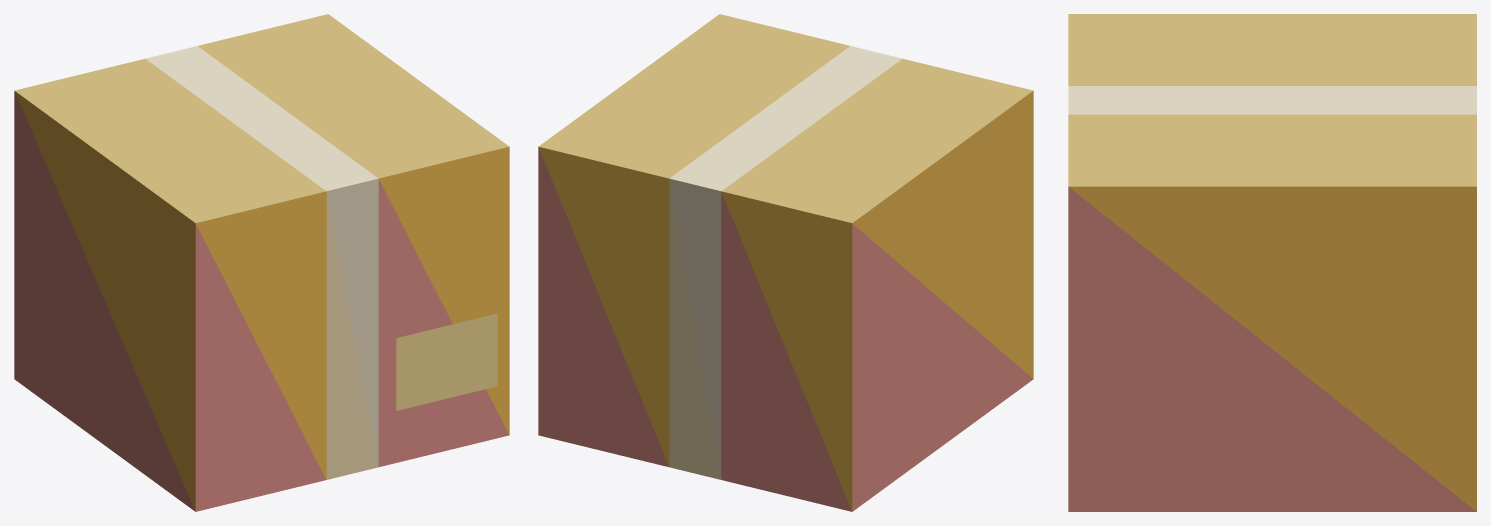
Rendered from itch_kaykit_city_bits_box_a.glb.
3 views of the same model, side by side, from view 1: azimuth 30°, elevation 25°; view 2: azimuth 150°, elevation 25°; view 3: azimuth 270°, elevation 25° (orthographic). The views are drawn at different scales.
Parts seen in each view (by area): view 1: box_A; view 2: box_A; view 3: box_A.
Boxes of the visible parts, bbox=[...] form: box_A: bbox=[14, 14, 509, 511]; box_A: bbox=[538, 14, 1033, 511]; box_A: bbox=[1068, 14, 1476, 511].
Bounding box in the file's own units: 1.16 × 1.02 × 1.18.
